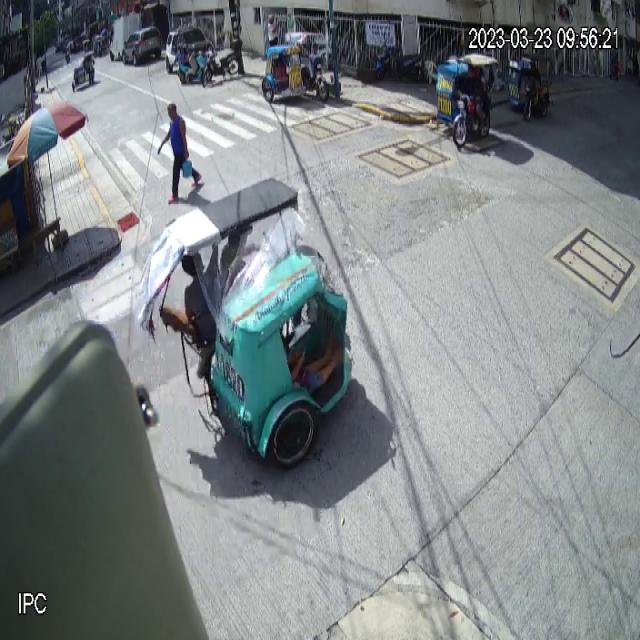Tricycle: (158, 175, 352, 472), (436, 54, 500, 149), (261, 32, 329, 104)
